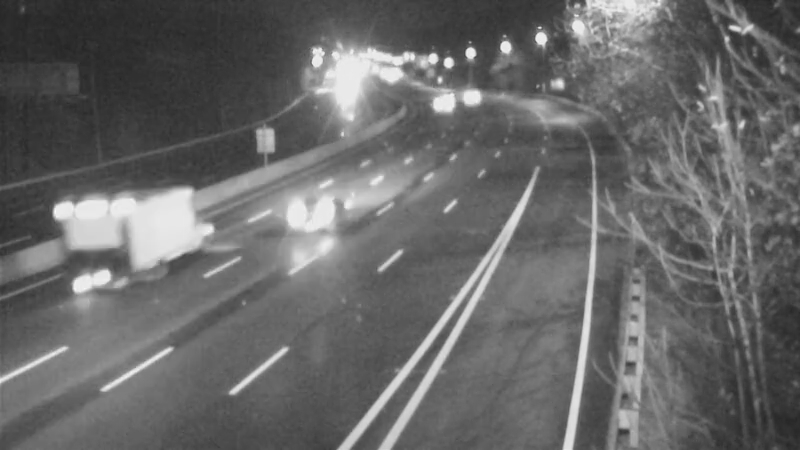vehicle: (278, 171, 358, 251), (103, 196, 183, 276), (446, 70, 496, 120), (417, 79, 467, 129)
